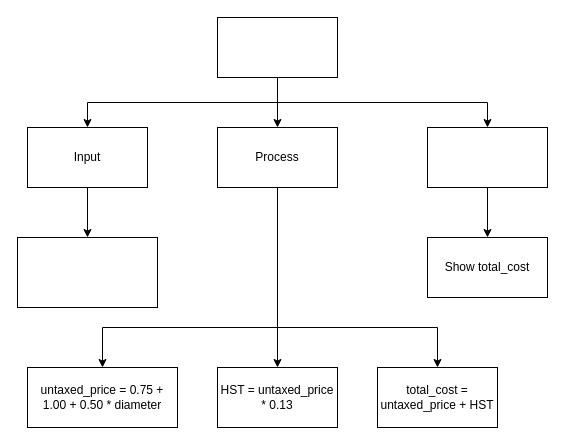
Image size: 565x445. Some labels were removed from this diagram. Each missing label, with the box of its shape:
Get the diameter(inch) of the pizza: (16, 236, 158, 308)
Output: (426, 126, 548, 188)
The Cost of the Pizza: (216, 16, 338, 78)
